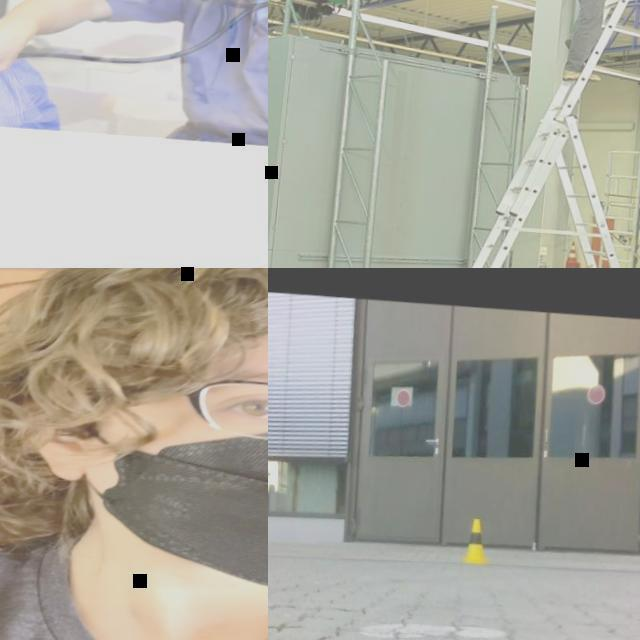mask: (52, 396, 268, 609)
no_helmet: (23, 268, 268, 379), (78, 29, 172, 58)
no_vest: (0, 531, 268, 640)
person: (0, 268, 268, 640), (0, 0, 268, 152), (557, 0, 640, 88)
safety_cone: (458, 520, 492, 566)
